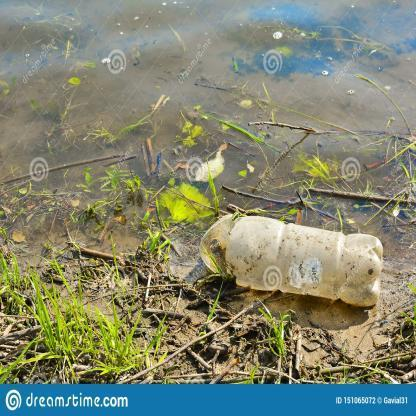plastic bottle: (199, 215, 381, 308)
